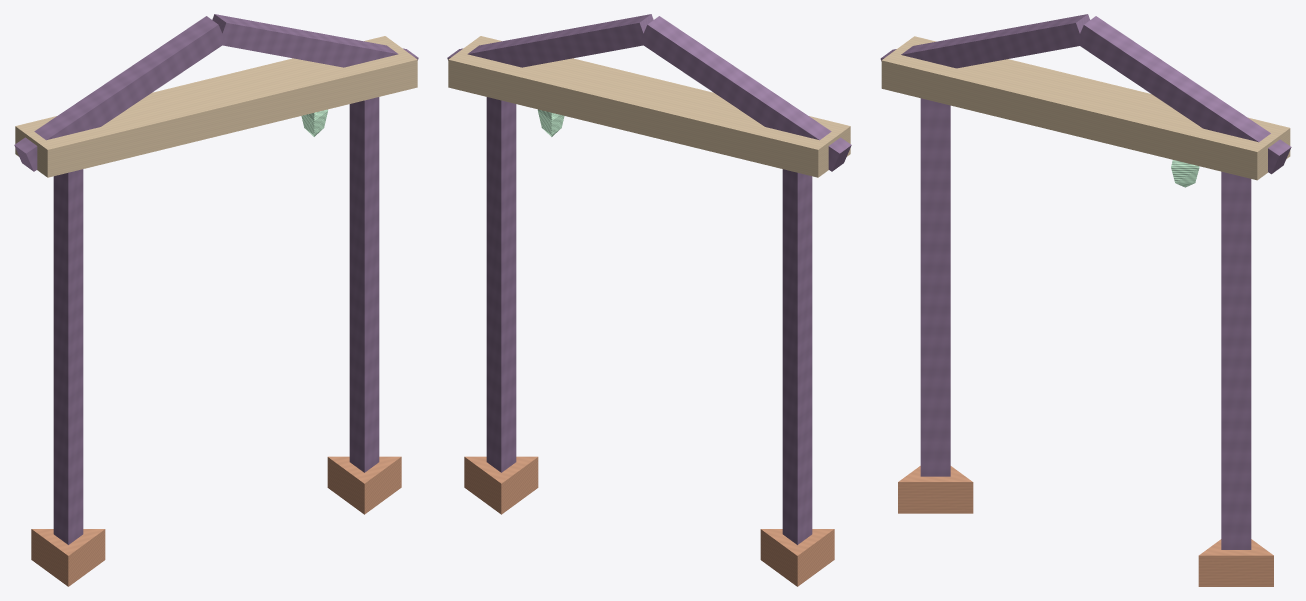
Rendered from atlas100-s081-a09.lod1.glb.
3 renders of one model, left to right at view 1: azimuth 30°, elevation 25°; view 2: azimuth 150°, elevation 25°; view 3: azimuth 330°, elevation 25°, orthographic.
Visible parts, largest first — view 1: atlas100-s081-a09:part-004, atlas100-s081-a09:part-002, atlas100-s081-a09:part-000, atlas100-s081-a09:part-005, atlas100-s081-a09:part-006, atlas100-s081-a09:part-003, atlas100-s081-a09:part-001; view 2: atlas100-s081-a09:part-004, atlas100-s081-a09:part-002, atlas100-s081-a09:part-000, atlas100-s081-a09:part-005, atlas100-s081-a09:part-006, atlas100-s081-a09:part-003, atlas100-s081-a09:part-001; view 3: atlas100-s081-a09:part-004, atlas100-s081-a09:part-000, atlas100-s081-a09:part-002, atlas100-s081-a09:part-006, atlas100-s081-a09:part-005, atlas100-s081-a09:part-001, atlas100-s081-a09:part-003, atlas100-s081-a09:part-008.
Boxes of the visible parts, x1=… form: atlas100-s081-a09:part-004: x1=15, y1=36, x2=417, y2=177; atlas100-s081-a09:part-002: x1=349, y1=97, x2=379, y2=472; atlas100-s081-a09:part-000: x1=53, y1=169, x2=83, y2=544; atlas100-s081-a09:part-005: x1=14, y1=16, x2=226, y2=171; atlas100-s081-a09:part-006: x1=212, y1=14, x2=418, y2=67; atlas100-s081-a09:part-003: x1=327, y1=456, x2=401, y2=514; atlas100-s081-a09:part-001: x1=31, y1=529, x2=105, y2=586; atlas100-s081-a09:part-004: x1=448, y1=36, x2=850, y2=177; atlas100-s081-a09:part-002: x1=486, y1=97, x2=516, y2=472; atlas100-s081-a09:part-000: x1=782, y1=169, x2=812, y2=544; atlas100-s081-a09:part-005: x1=639, y1=16, x2=851, y2=171; atlas100-s081-a09:part-006: x1=447, y1=14, x2=653, y2=67; atlas100-s081-a09:part-003: x1=464, y1=456, x2=538, y2=514; atlas100-s081-a09:part-001: x1=760, y1=529, x2=834, y2=586; atlas100-s081-a09:part-004: x1=881, y1=36, x2=1290, y2=180; atlas100-s081-a09:part-000: x1=920, y1=98, x2=950, y2=476; atlas100-s081-a09:part-002: x1=1221, y1=171, x2=1251, y2=549; atlas100-s081-a09:part-006: x1=1076, y1=16, x2=1291, y2=174; atlas100-s081-a09:part-005: x1=880, y1=14, x2=1089, y2=68; atlas100-s081-a09:part-001: x1=898, y1=466, x2=973, y2=513; atlas100-s081-a09:part-003: x1=1198, y1=539, x2=1273, y2=586; atlas100-s081-a09:part-008: x1=1171, y1=160, x2=1199, y2=187.
Bounding box in the file's own units: 2.65 × 3.31 × 0.433.
4 materials, 4 textured.
